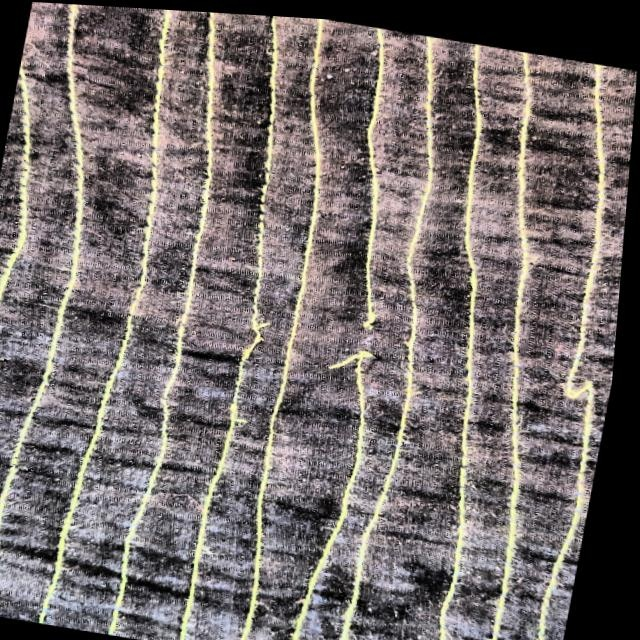Stitch: (307, 286, 400, 384), (213, 290, 292, 366), (541, 357, 612, 426)
